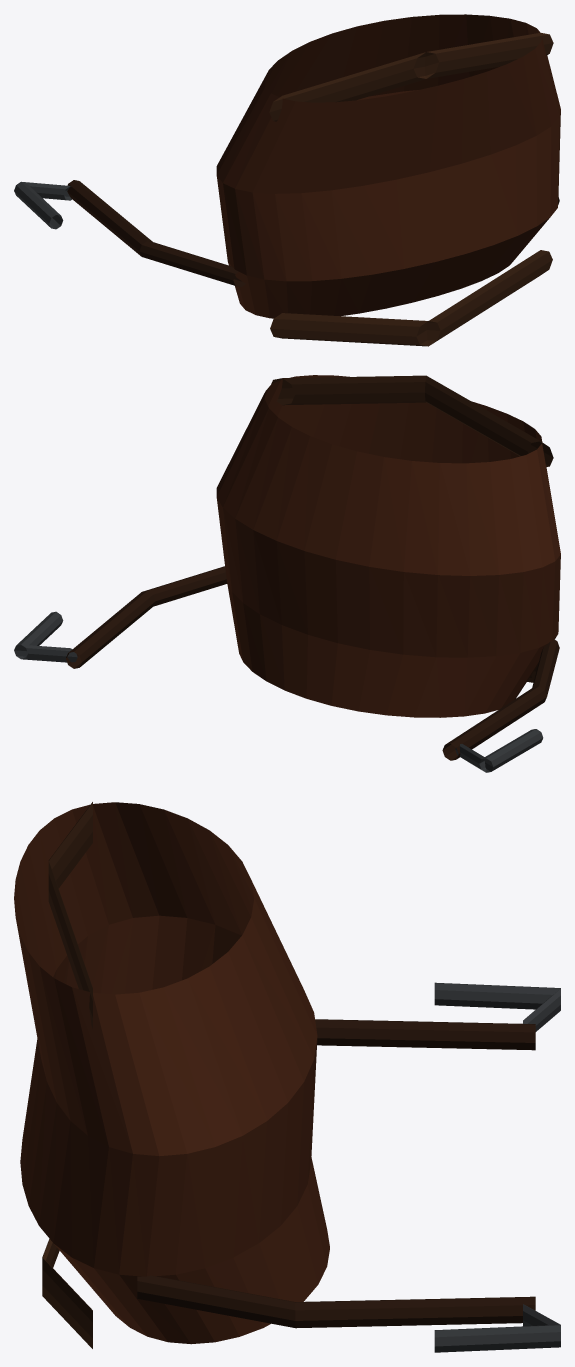
File: SM_Saddle1348_LOD0.obj
3 renders of one model, top to bottom at view 1: azimuth 30°, elevation 25°; view 2: azimuth 150°, elevation 25°; view 3: azimuth 270°, elevation 25°, orthographic. The views are drawn at different scales.
Size of the model in its own units: 1.34 by 0.758 by 0.865.
